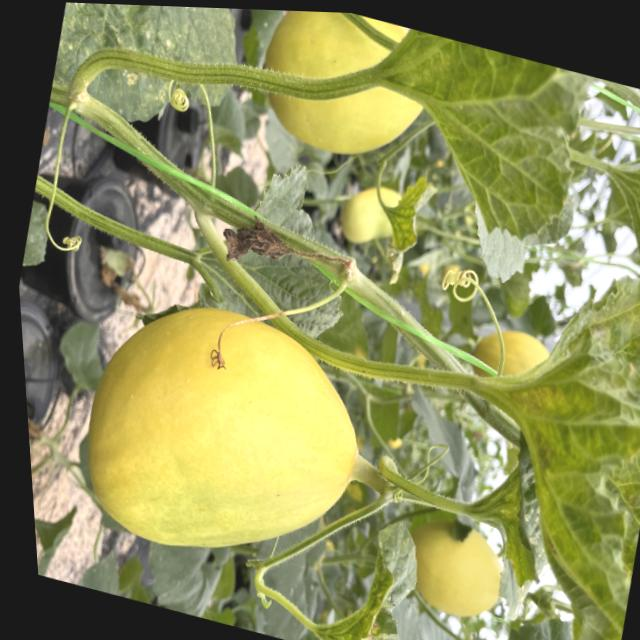CMV: (323, 16, 618, 302), (457, 236, 640, 640), (595, 128, 640, 295)
alternaria leaf blight: (295, 498, 439, 640), (455, 448, 566, 600)
bacterial wilt: (208, 205, 315, 293)
